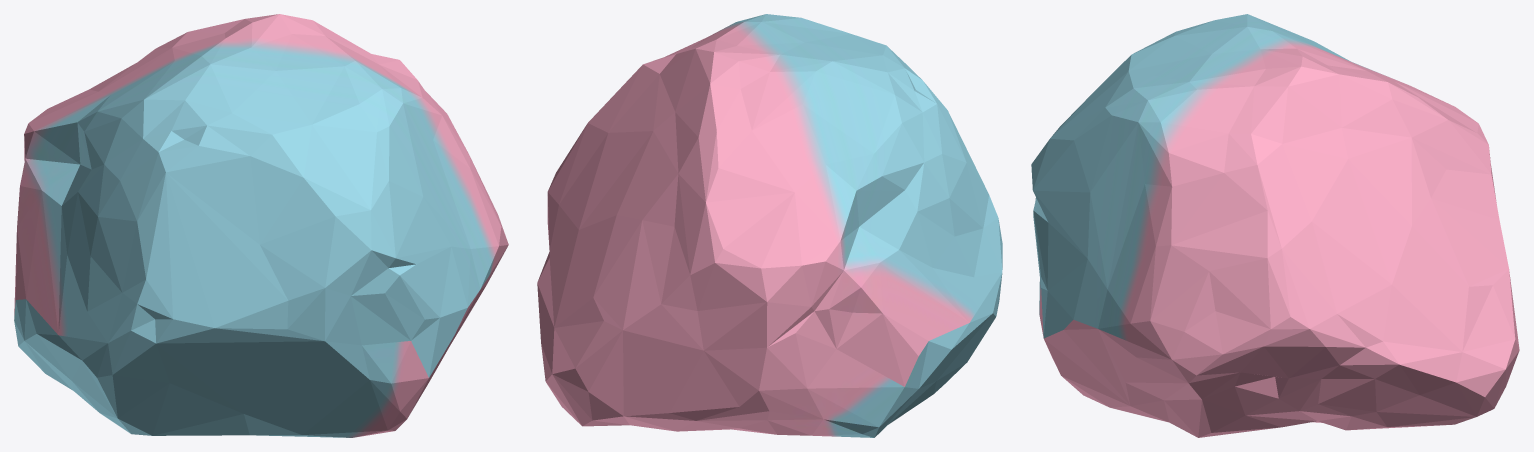
File: stone12021_01.90da037a.obj
3 views of the same model, side by side, from view 1: azimuth 30°, elevation 25°; view 2: azimuth 150°, elevation 25°; view 3: azimuth 270°, elevation 25° (orthographic). The views are drawn at different scales.
Visible parts, largest first — view 1: Group25624; view 2: Group25624; view 3: Group25624.
Boxes of the visible parts, x1=… form: Group25624: x1=14, y1=14, x2=508, y2=437; Group25624: x1=537, y1=14, x2=1002, y2=437; Group25624: x1=1031, y1=14, x2=1519, y2=437.
Bounding box in the file's own units: 1.83 × 1.4 × 1.87.
